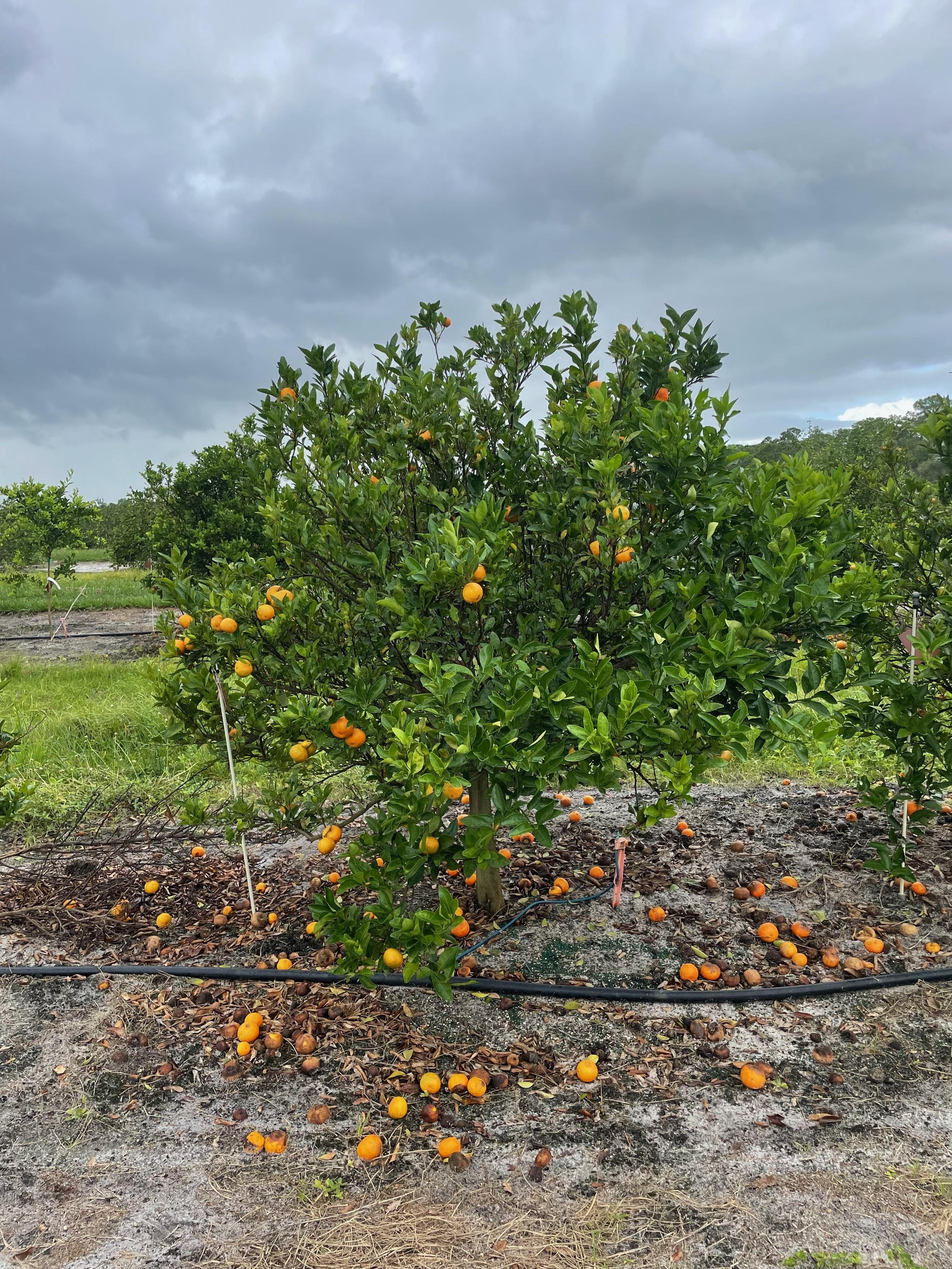fruit_on_ground: (440, 775, 466, 801), (460, 580, 486, 605), (380, 946, 405, 971), (611, 542, 636, 566), (287, 741, 311, 766), (270, 588, 295, 612), (583, 378, 609, 401), (328, 714, 352, 738), (499, 502, 524, 525), (448, 917, 472, 939), (417, 834, 441, 856), (415, 426, 438, 448), (320, 823, 343, 845), (586, 537, 608, 560), (345, 726, 368, 748), (233, 656, 255, 679), (466, 562, 488, 584), (277, 383, 299, 405), (609, 502, 632, 523), (903, 798, 925, 819), (649, 385, 671, 406), (265, 584, 287, 605), (254, 603, 276, 623), (219, 615, 239, 636), (298, 738, 318, 758), (400, 458, 421, 477), (617, 459, 637, 478), (181, 633, 201, 652), (317, 837, 337, 856), (208, 613, 227, 632), (225, 725, 245, 743), (169, 637, 188, 655), (177, 612, 196, 630), (474, 427, 493, 443), (455, 811, 470, 829), (718, 749, 734, 764), (835, 637, 850, 652), (439, 315, 453, 329)
fruit_on_tree: (740, 1064, 769, 1091), (356, 1133, 383, 1161), (305, 1102, 331, 1127), (575, 1057, 600, 1083), (264, 1130, 289, 1155), (386, 1096, 410, 1120), (437, 1134, 461, 1158), (108, 898, 133, 920), (221, 1058, 247, 1079), (420, 1070, 443, 1093), (240, 1010, 264, 1032), (294, 1033, 318, 1054), (238, 1018, 260, 1040), (467, 1066, 490, 1087), (467, 1075, 490, 1096), (419, 1103, 441, 1124), (446, 1071, 468, 1092), (699, 961, 721, 982), (757, 921, 779, 941), (245, 1129, 266, 1149), (458, 953, 479, 973), (678, 961, 699, 981), (534, 1147, 553, 1169), (218, 1021, 240, 1040), (688, 1016, 709, 1035), (264, 1030, 285, 1049), (742, 966, 763, 985), (821, 946, 840, 967), (811, 1045, 834, 1062), (490, 1072, 510, 1091), (720, 968, 741, 986), (864, 936, 885, 954), (154, 910, 173, 929), (790, 919, 810, 937), (647, 904, 667, 922), (129, 1030, 150, 1047), (898, 920, 919, 937), (748, 879, 767, 897), (777, 940, 796, 958), (855, 925, 875, 942), (705, 1024, 725, 1041), (301, 1054, 321, 1071), (841, 954, 862, 970), (779, 873, 798, 890), (455, 963, 473, 980), (235, 1040, 253, 1057), (303, 918, 321, 935), (250, 911, 268, 928), (731, 884, 750, 900), (143, 877, 160, 894), (553, 876, 570, 893), (292, 980, 310, 996), (276, 956, 294, 972), (910, 879, 928, 895), (156, 1059, 173, 1075), (231, 1105, 248, 1121), (588, 863, 605, 879), (518, 830, 535, 846), (496, 846, 514, 861), (463, 870, 479, 886), (828, 1070, 845, 1085), (61, 897, 80, 910), (458, 790, 473, 806), (704, 874, 720, 889), (729, 839, 746, 853), (210, 914, 228, 927), (793, 951, 808, 966), (292, 1009, 308, 1023), (674, 818, 690, 832), (924, 939, 940, 953), (234, 1007, 249, 1021), (517, 876, 532, 890), (446, 863, 461, 877), (938, 801, 952, 816), (253, 879, 268, 893), (844, 809, 859, 823), (191, 843, 206, 857), (568, 808, 583, 822), (890, 875, 906, 888), (362, 908, 378, 921), (373, 854, 387, 868), (308, 876, 322, 890), (558, 795, 573, 808), (254, 958, 270, 970), (510, 830, 524, 843), (682, 826, 696, 839), (267, 911, 280, 925), (548, 885, 562, 898), (328, 870, 341, 883), (774, 911, 788, 923), (581, 793, 595, 805), (221, 904, 234, 916), (814, 789, 826, 799), (746, 825, 756, 835), (779, 800, 790, 809), (780, 778, 791, 787), (553, 792, 563, 800)
